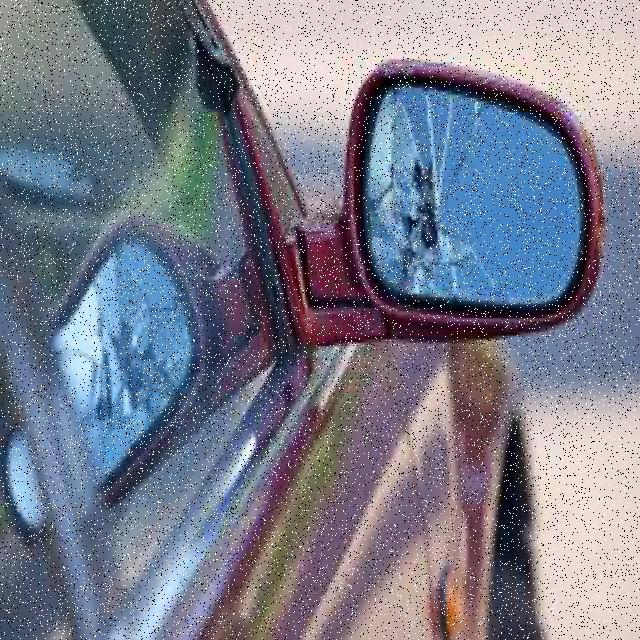Sidemirror-Damage: (324, 56, 612, 374)
